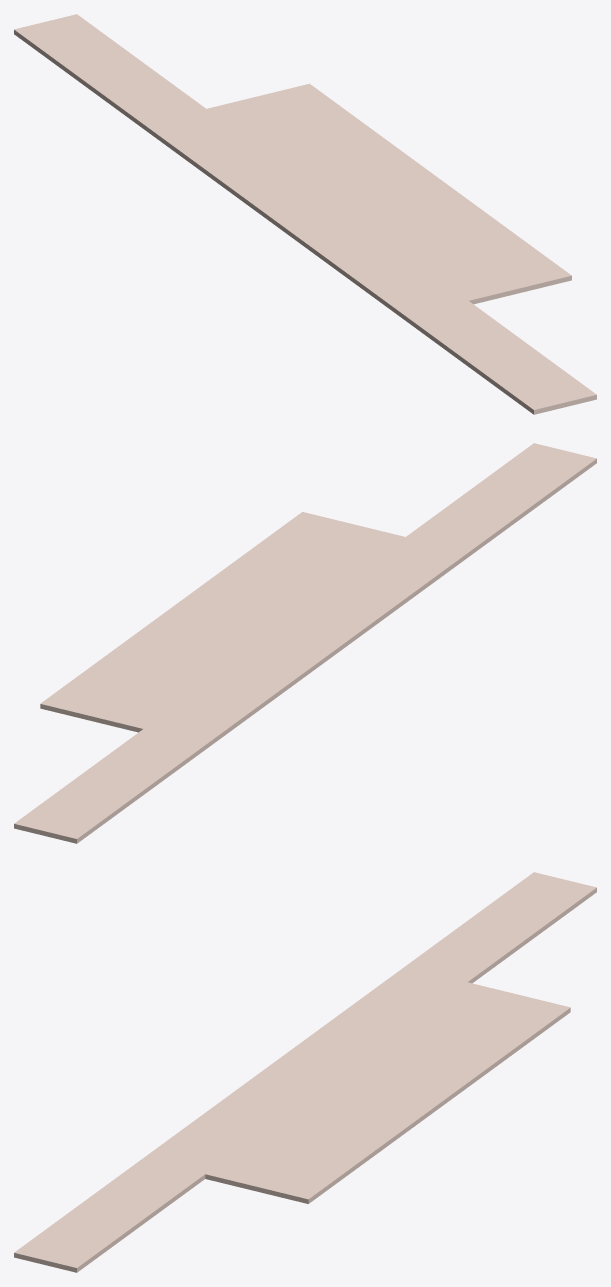
The model's file is diban.fbx.
The picture shows the model from 3 angles, top to bottom: view 1: azimuth 30°, elevation 25°; view 2: azimuth 150°, elevation 25°; view 3: azimuth 330°, elevation 25°; orthographic projection.
Visible parts, largest first — view 1: zoulang1:Box001; view 2: zoulang1:Box001; view 3: zoulang1:Box001.
Boxes of the visible parts, x1,y1,x2,y2 form: zoulang1:Box001: [14, 14, 596, 414]; zoulang1:Box001: [14, 443, 596, 843]; zoulang1:Box001: [14, 872, 596, 1272].
Size of the model in its own units: 1014 by 27.7 by 5495.
